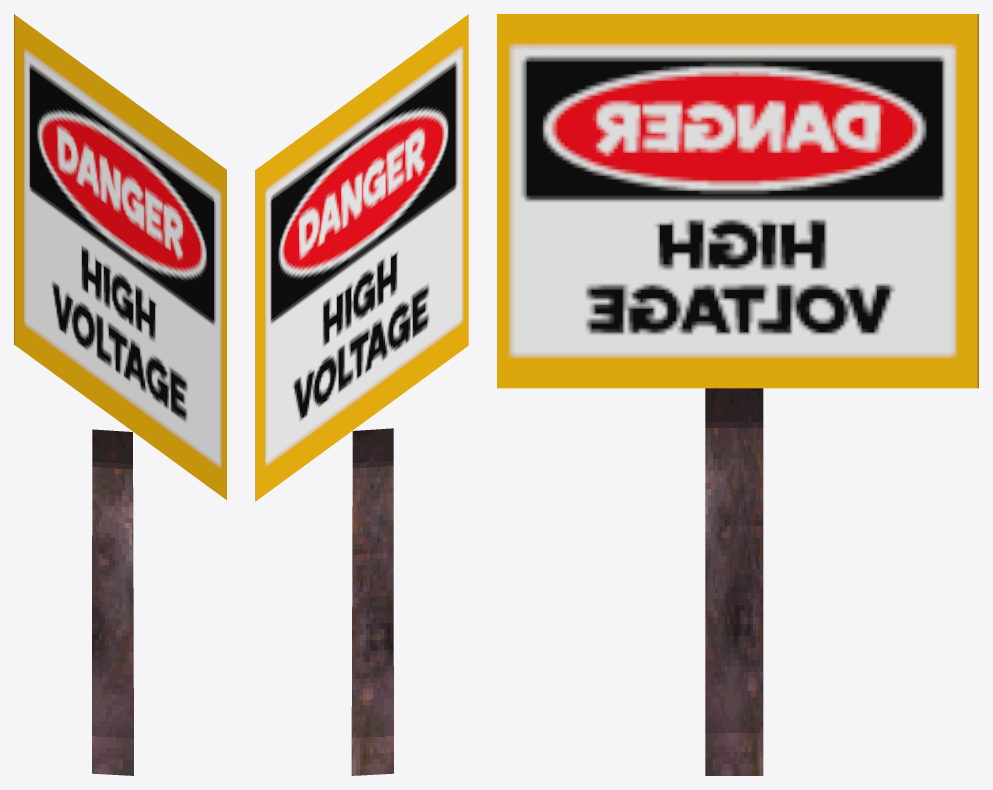
Rendered from signC02.glb.
3 renders of one model, left to right at view 1: azimuth 30°, elevation 25°; view 2: azimuth 150°, elevation 25°; view 3: azimuth 270°, elevation 25°, orthographic. The views are drawn at different scales.
Visible parts, largest first — view 1: signC02; view 2: signC02; view 3: signC02.
Boxes of the visible parts, <box> form: signC02: <box>14,14,226,775</box>; signC02: <box>255,14,468,775</box>; signC02: <box>497,14,978,775</box>.
Bounding box in the file's own units: 10.97 × 234 × 134.
Materials: 2 (2 with a texture image).
